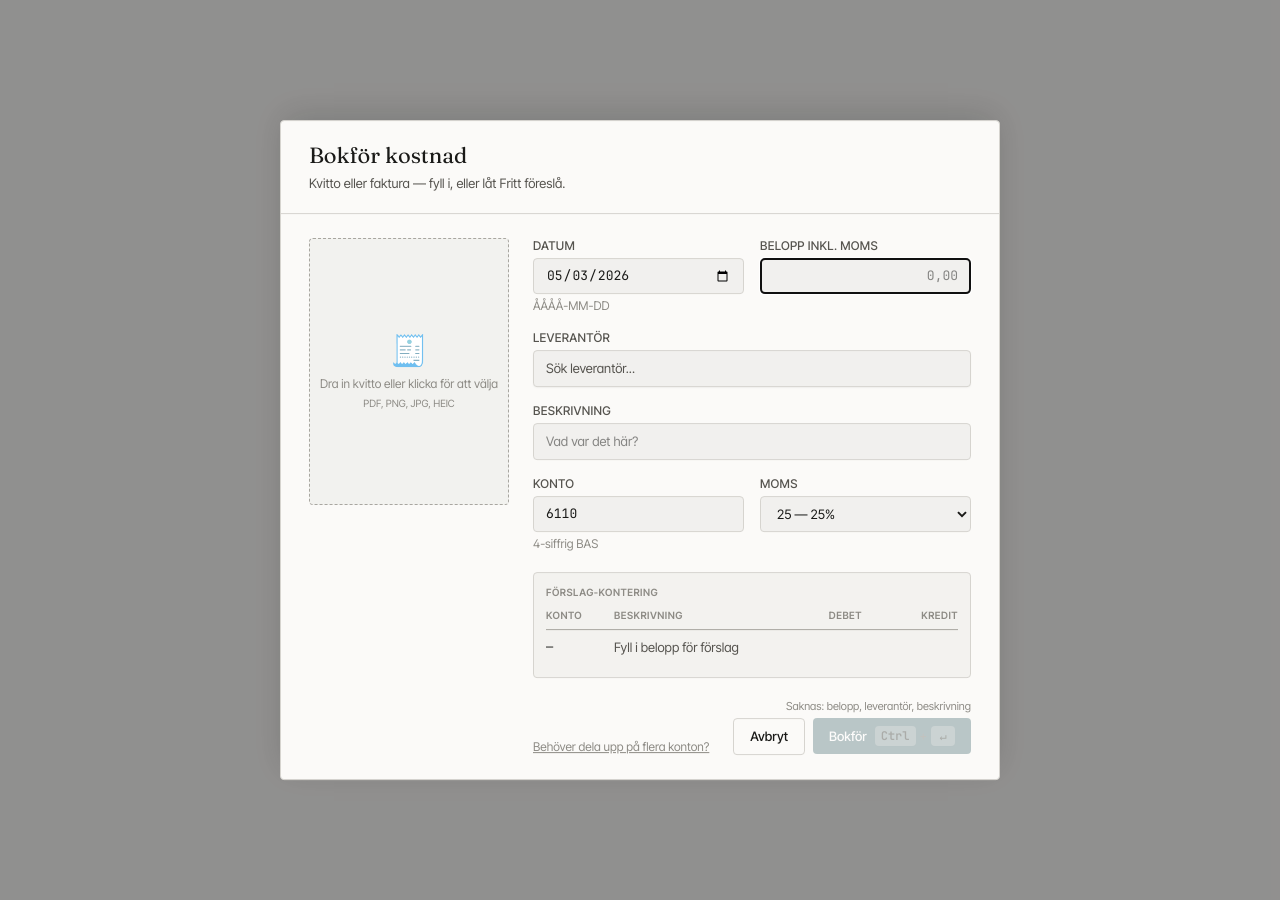
Test: Sprint VS-3 — BokforKostnadSheet › VS-7 receipt-clear återställer pick-knappen
Click the button with test id "vardag-kostnad-receipt-pick" at (409, 371), box [309,238,509,505]
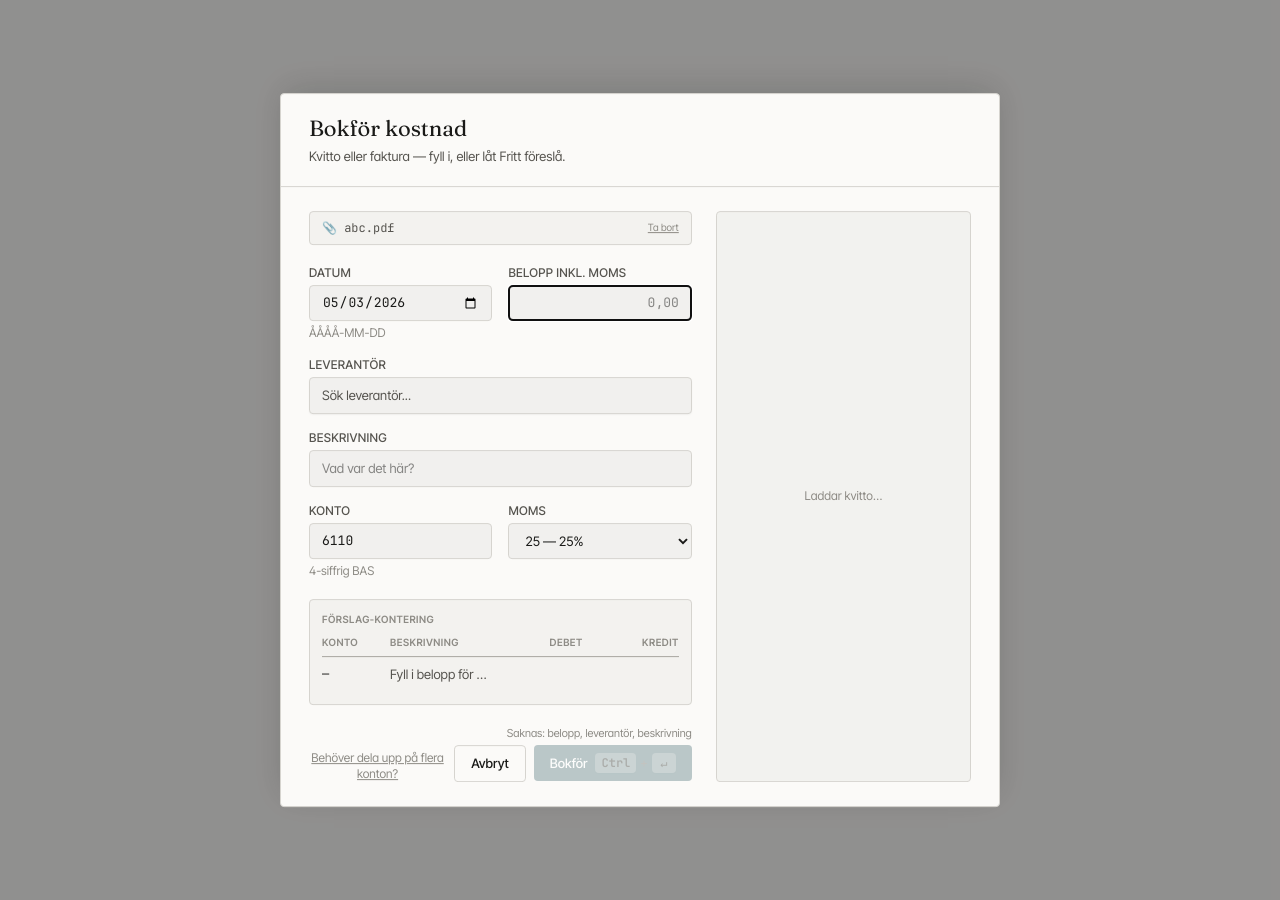
Now the text "📎 abc.pdf" is shown, box [322,220,395,236]
Click the button with test id "vardag-kostnad-receipt-clear" at (663, 228), box [648,221,679,235]
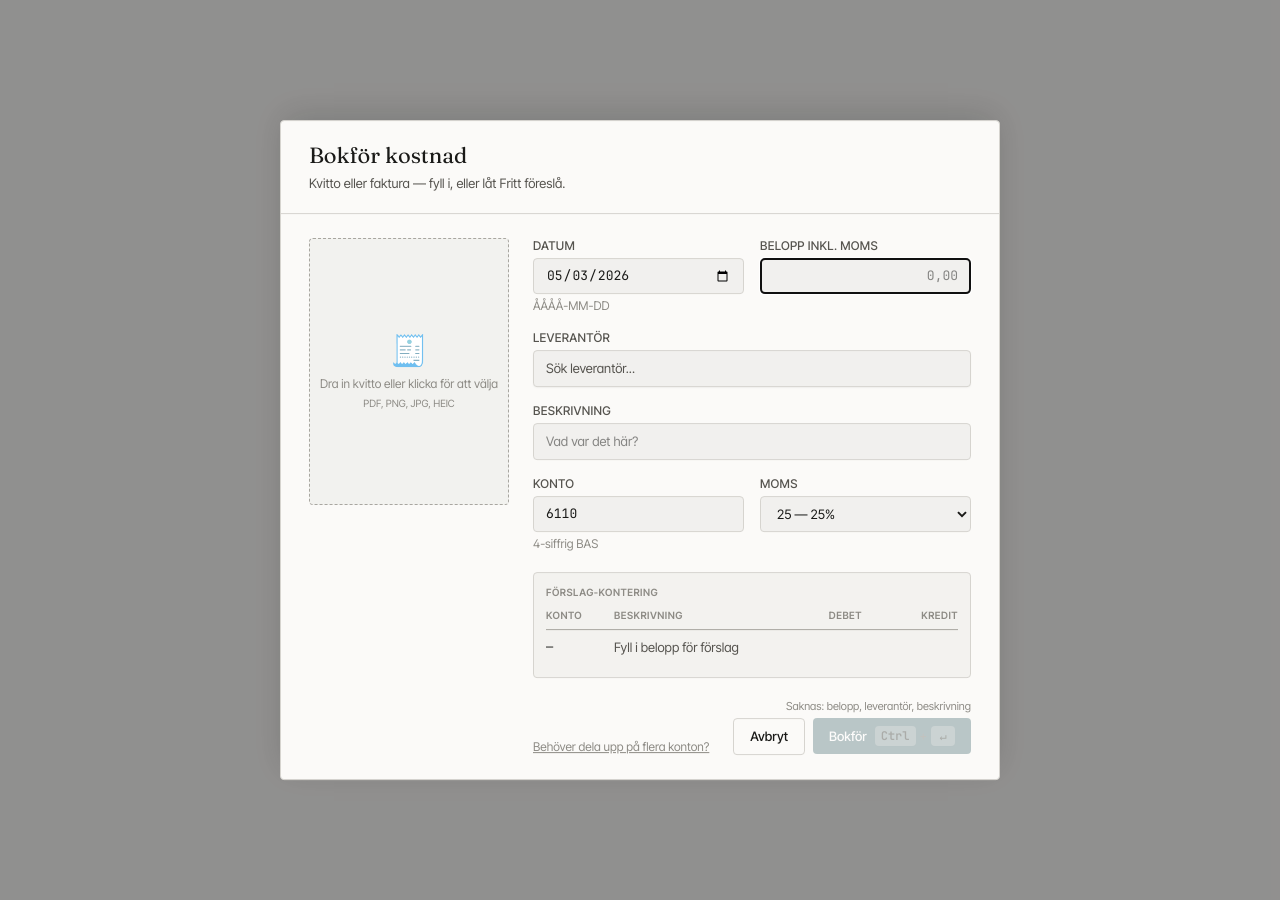
Now the button with test id "vardag-kostnad-receipt-pick" is shown, box [309,238,509,505]
